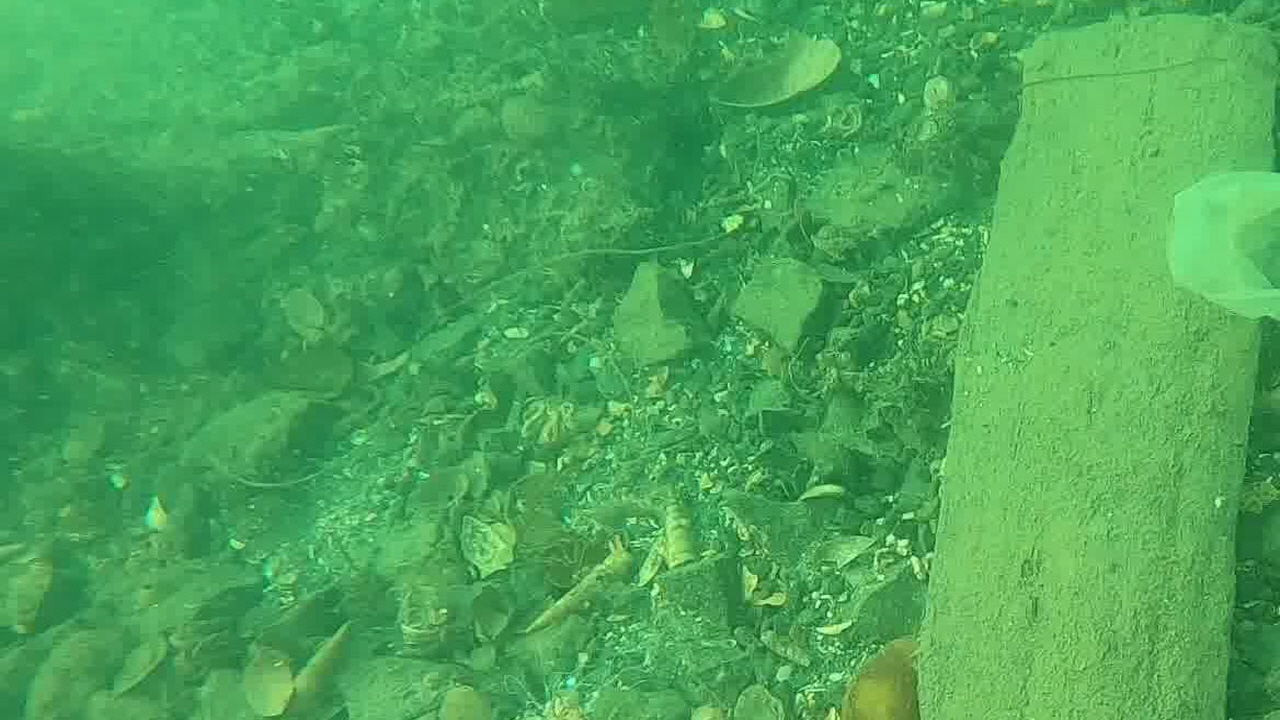wood: (914, 12, 1280, 720)
